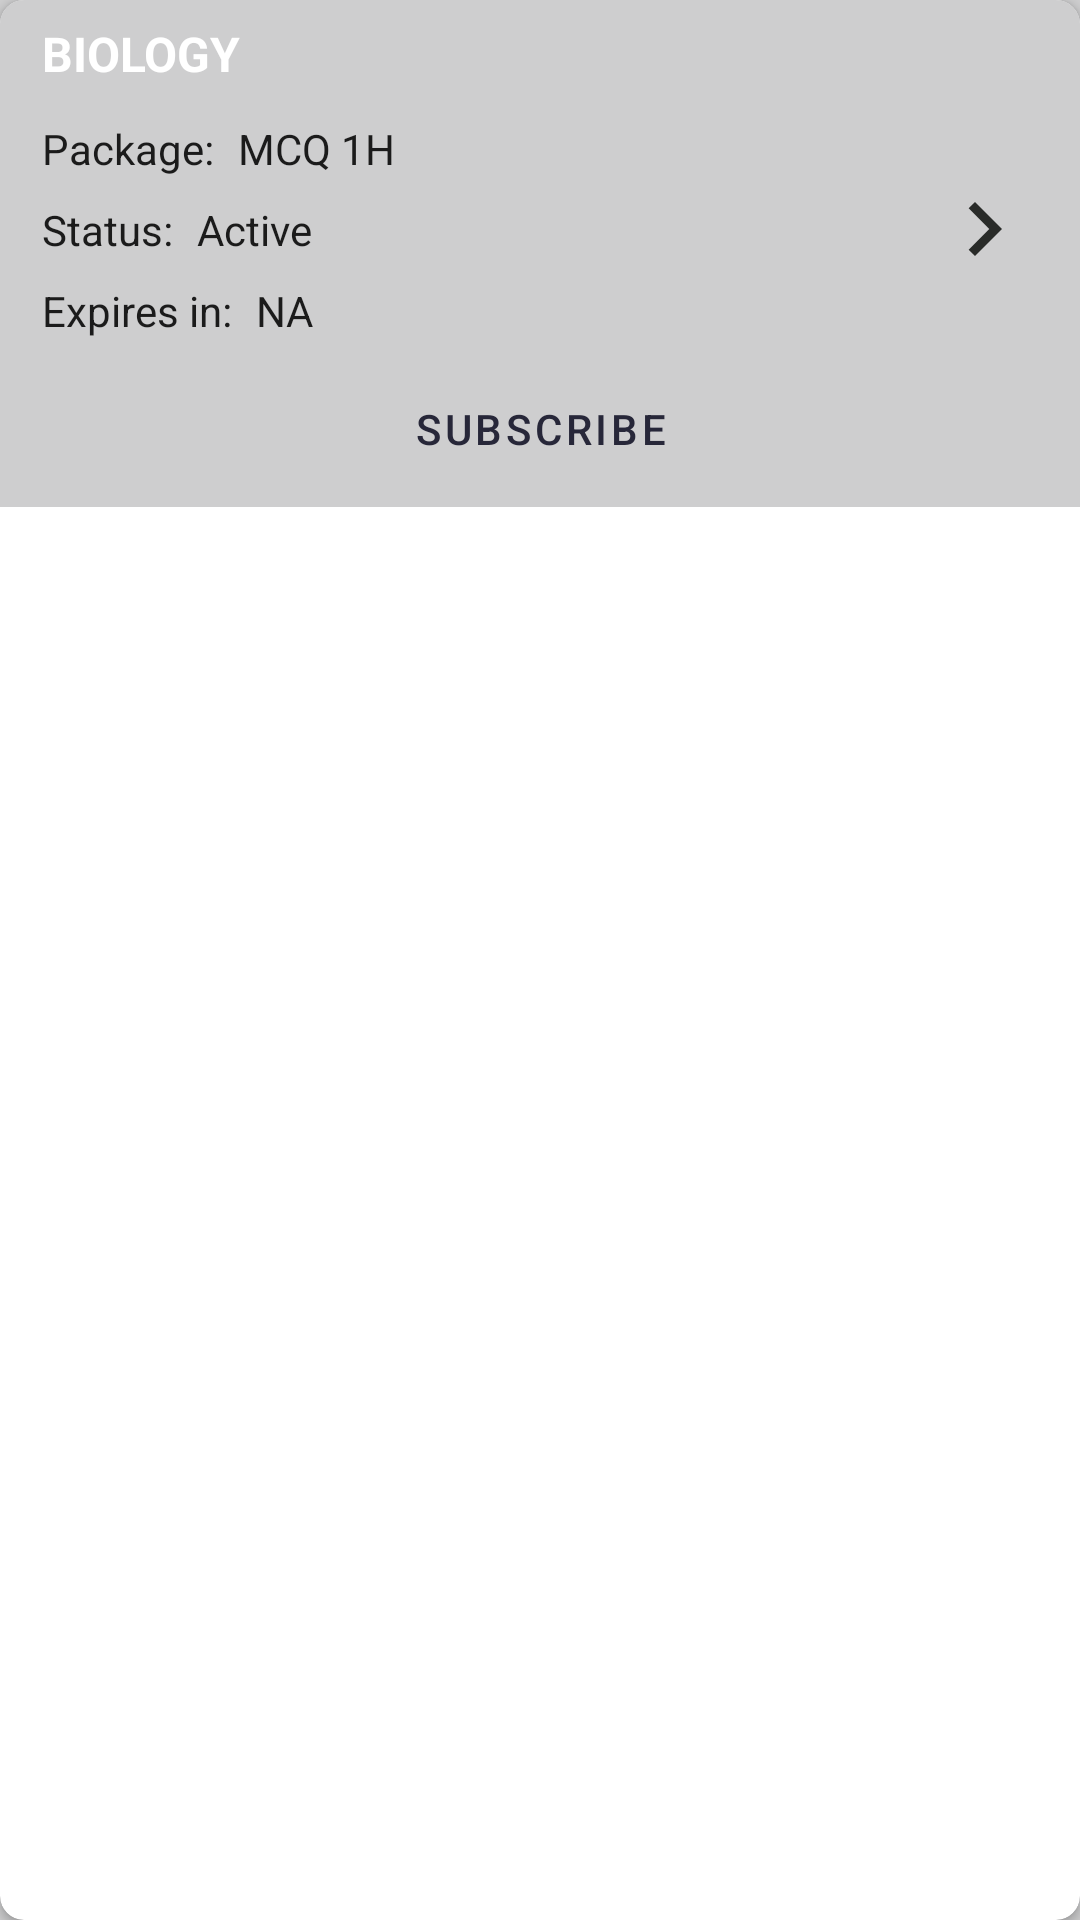

Where icons sit on this 1080×1920 app screen, as box(x1, y1, x2, y2):
navigate next: box(969, 202, 1002, 256)
